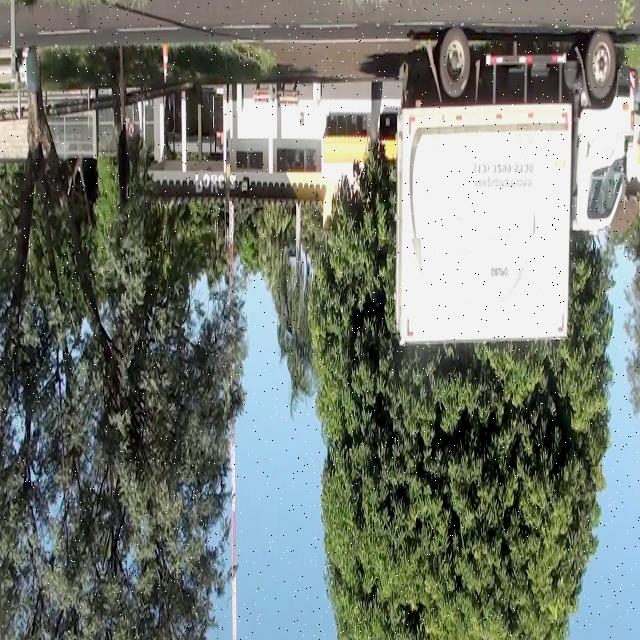-axle: (585, 30, 618, 100), (440, 25, 470, 98)
